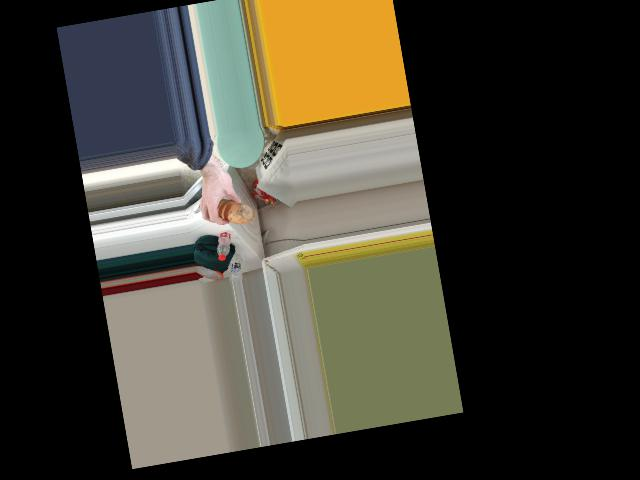sweet_potato: (216, 195, 248, 227)
